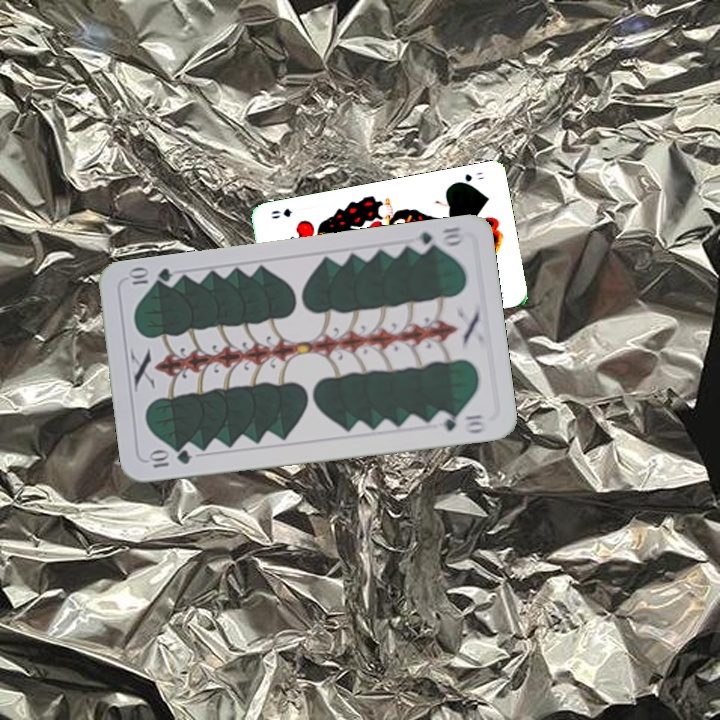G10: (407, 223, 467, 255), (145, 446, 194, 471)
GO: (450, 168, 487, 188)
